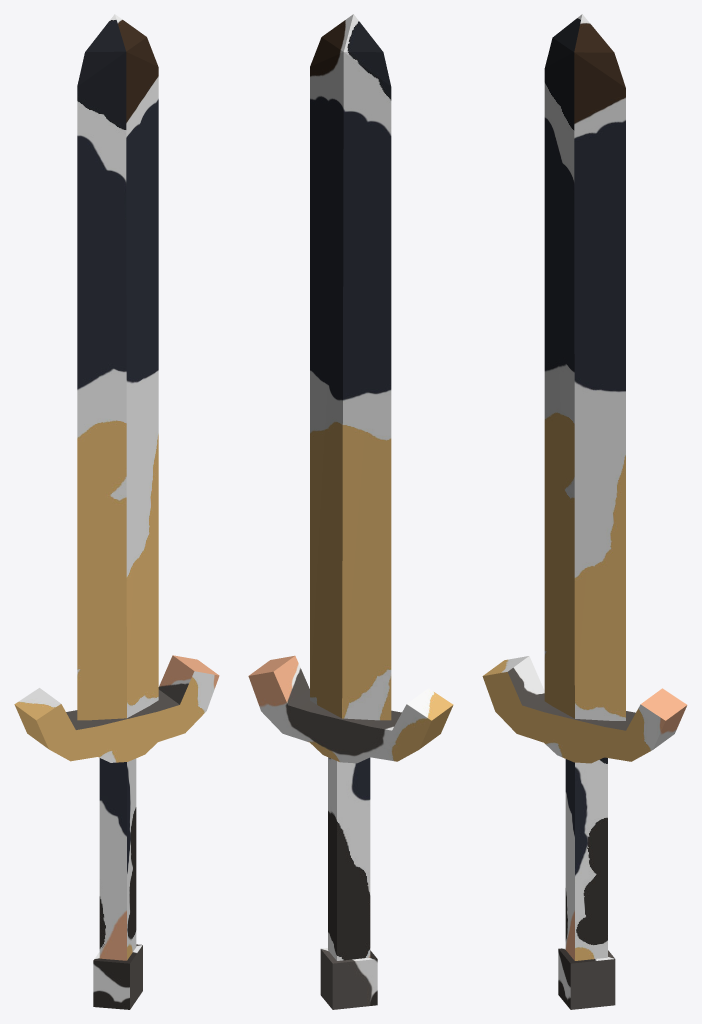
Rendered from Espada.FBX.
3 renders of one model, left to right at view 1: azimuth 30°, elevation 25°; view 2: azimuth 150°, elevation 25°; view 3: azimuth 330°, elevation 25°, orthographic.
Parts seen in each view (by area): view 1: Box001; view 2: Box001; view 3: Box001.
Part boxes in pixels (x1,y1,x2,y2): Box001: (14,14,219,1009); Box001: (248,14,453,1009); Box001: (482,14,687,1009).
Size of the model in its own units: 10.5 by 54 by 2.8.
